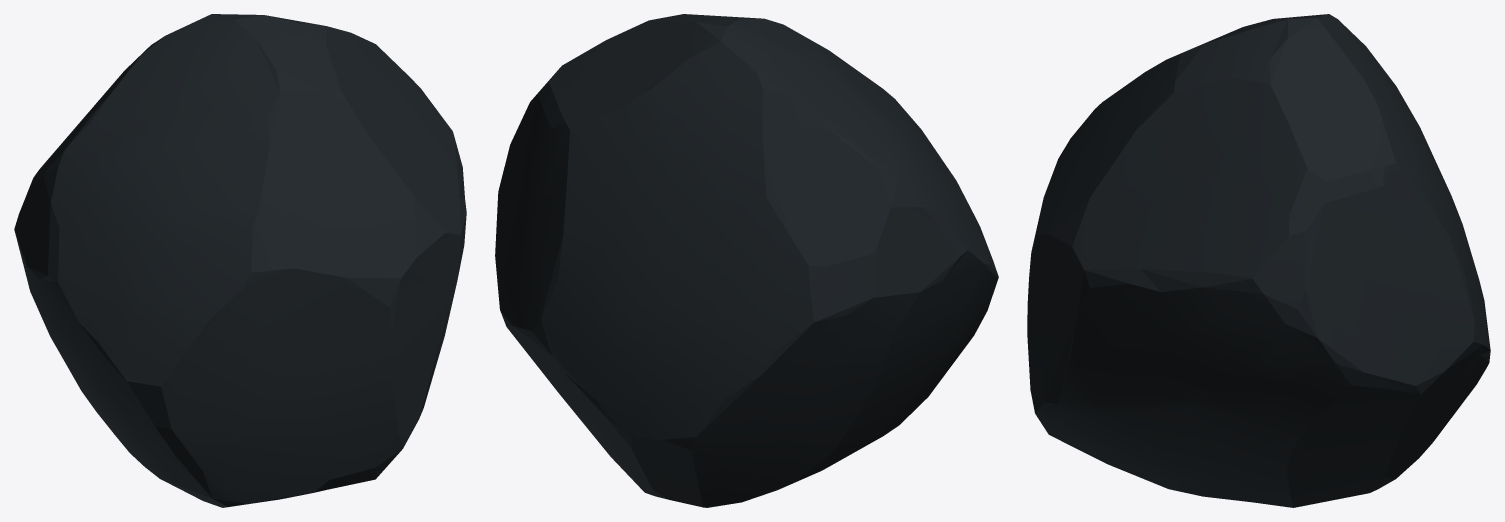
File: Asteroid_m_22.FBX
The picture shows the model from 3 angles, left to right: view 1: azimuth 30°, elevation 25°; view 2: azimuth 150°, elevation 25°; view 3: azimuth 270°, elevation 25°; orthographic projection. The views are drawn at different scales.
Parts seen in each view (by area): view 1: Asteroid_m_22; view 2: Asteroid_m_22; view 3: Asteroid_m_22.
Part boxes in pixels (x1,y1,x2,y2): Asteroid_m_22: (14, 14, 466, 507); Asteroid_m_22: (495, 14, 998, 507); Asteroid_m_22: (1027, 14, 1490, 507).
Size of the model in its own units: 913 by 914 by 839.
